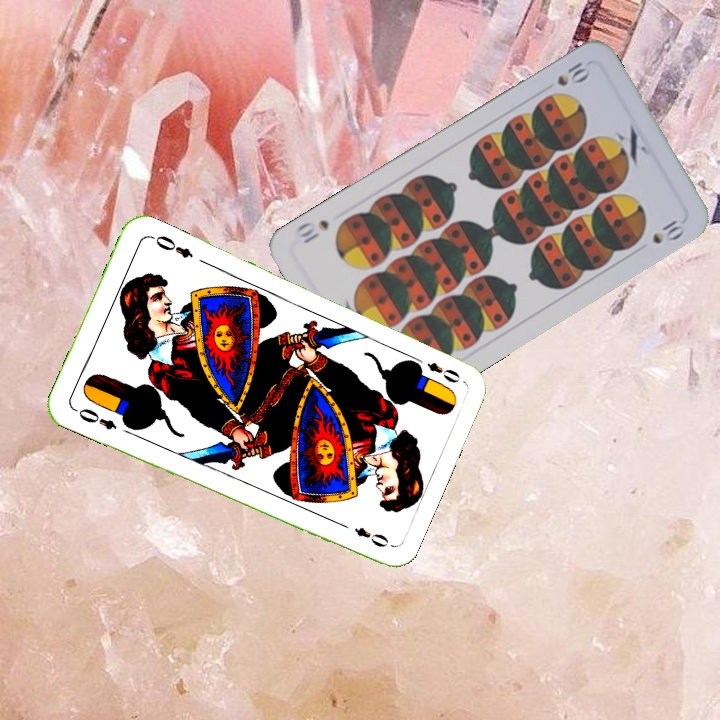EO: (408, 352, 463, 386), (70, 404, 120, 433)
S10: (552, 57, 591, 89)
